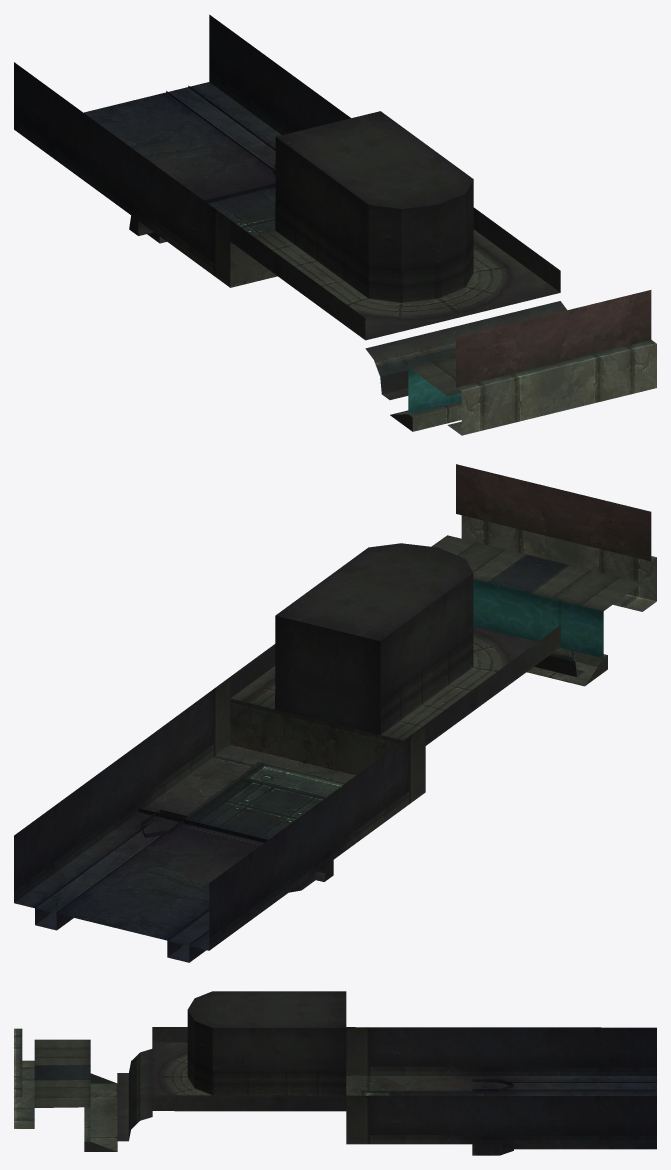
The model's file is taitan_fuben_01_qiangbi_01.obj.
3 views of the same model, one above another, from view 1: azimuth 30°, elevation 25°; view 2: azimuth 150°, elevation 25°; view 3: azimuth 270°, elevation 25° (orthographic). The views are drawn at different scales.
Parts seen in each view (by area): view 1: taitan_fuben_01_qiangbi_01; view 2: taitan_fuben_01_qiangbi_01; view 3: taitan_fuben_01_qiangbi_01.
Part boxes in pixels (box(x1,y1,x2,y2)): taitan_fuben_01_qiangbi_01: box(14, 14, 656, 435); taitan_fuben_01_qiangbi_01: box(14, 464, 656, 962); taitan_fuben_01_qiangbi_01: box(14, 991, 656, 1155).
Bounding box in the file's own units: 426 × 343 × 1693.
Materials: 3 (3 with a texture image).
